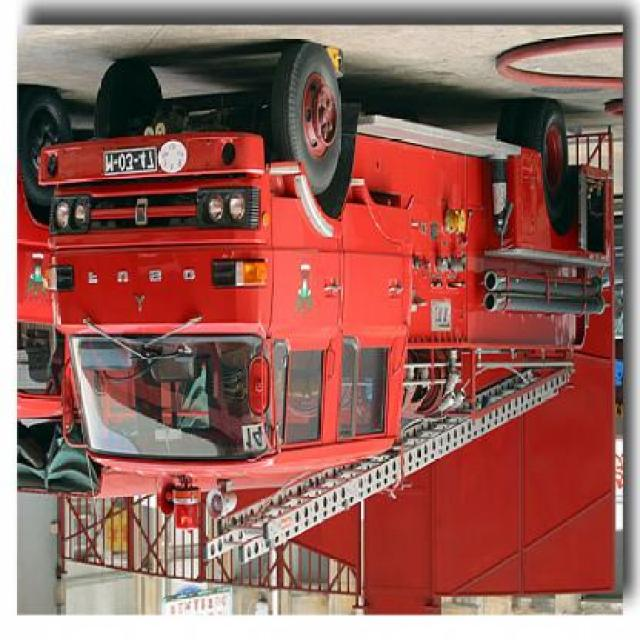truck: (37, 41, 614, 564)
